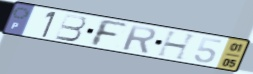1: (41, 10, 58, 39)
5: (193, 36, 224, 64)
B: (53, 13, 88, 43)
F: (90, 17, 129, 48)
H: (155, 30, 199, 62)
R: (121, 24, 158, 55)
